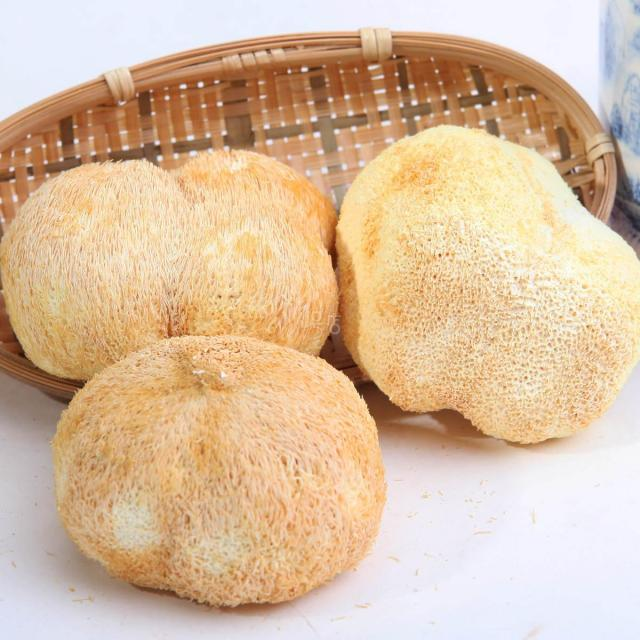Hericium erinaceus: (341, 122, 640, 447), (55, 334, 382, 602), (4, 148, 337, 379)
